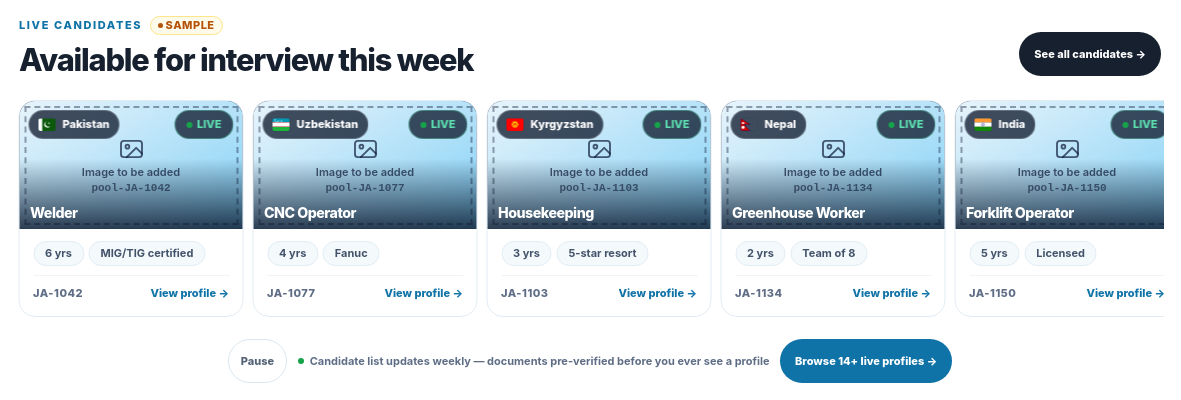
Test case: PoolSection (owner 2026-10-05: the design sample, page-local — D23) › EN: country names from sourceCountries, years through sys, the toggle pauses the track
Expected: the 3rd link shows "Uzbekistan", x1=250 y1=100 x2=476 y2=317
Expected: the 3rd link shows "4 yrs", x1=250 y1=100 x2=476 y2=317
Click the button with test id "pool-toggle": (257, 361) x1=228 y1=339 x2=287 y2=383
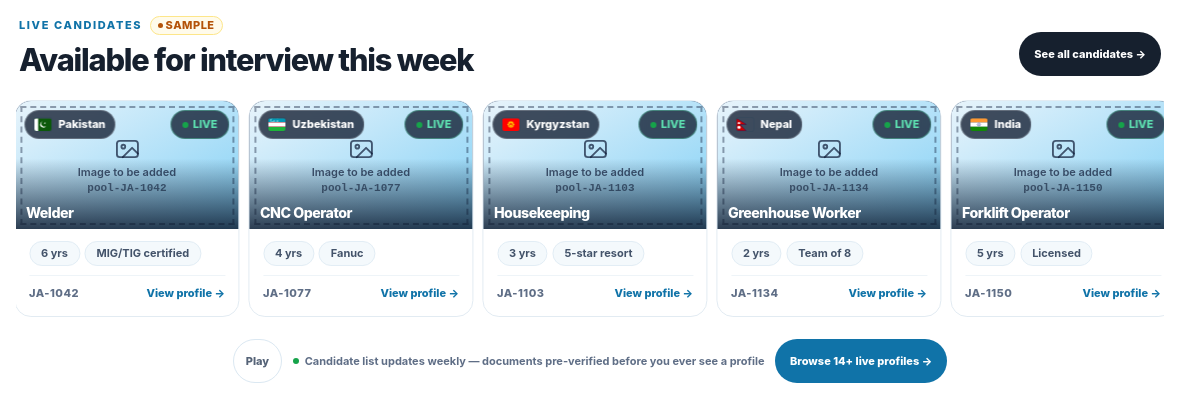
Expected: the button with test id "pool-toggle" reads "Play", x1=233 y1=339 x2=282 y2=383
